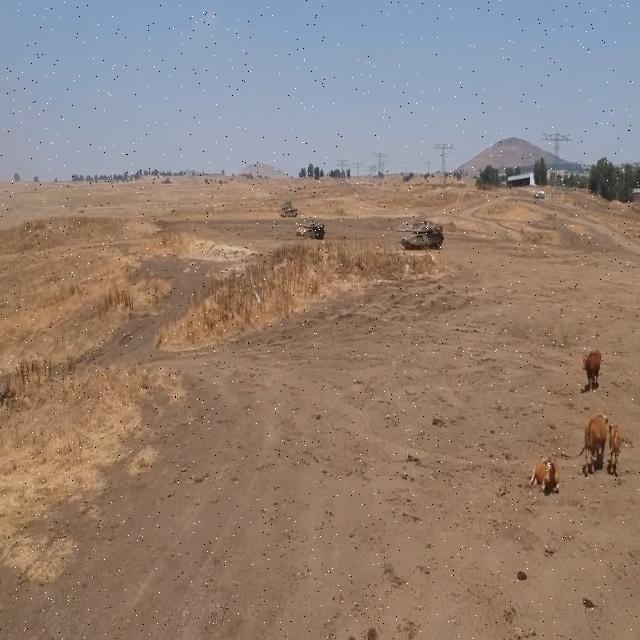MIL_MBT: (398, 216, 446, 260), (296, 215, 324, 235), (282, 202, 294, 222)
